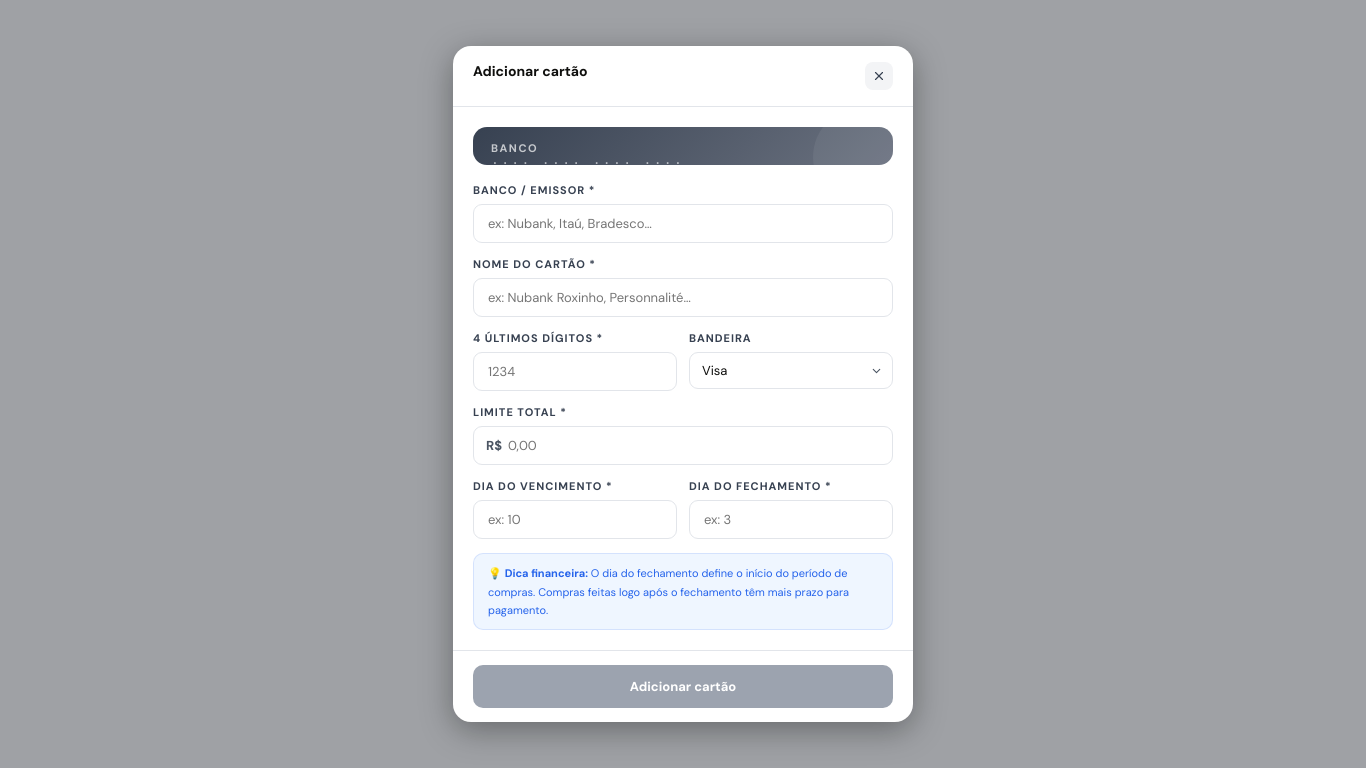
Test case: CardFormSheet — foco nos campos › mantem o foco no campo de 4 digitos ao digitar
The width and height of the screenshot is (1366, 768).
Click the field with placeholder "1234" at (575, 372), box [486,362,664,382]
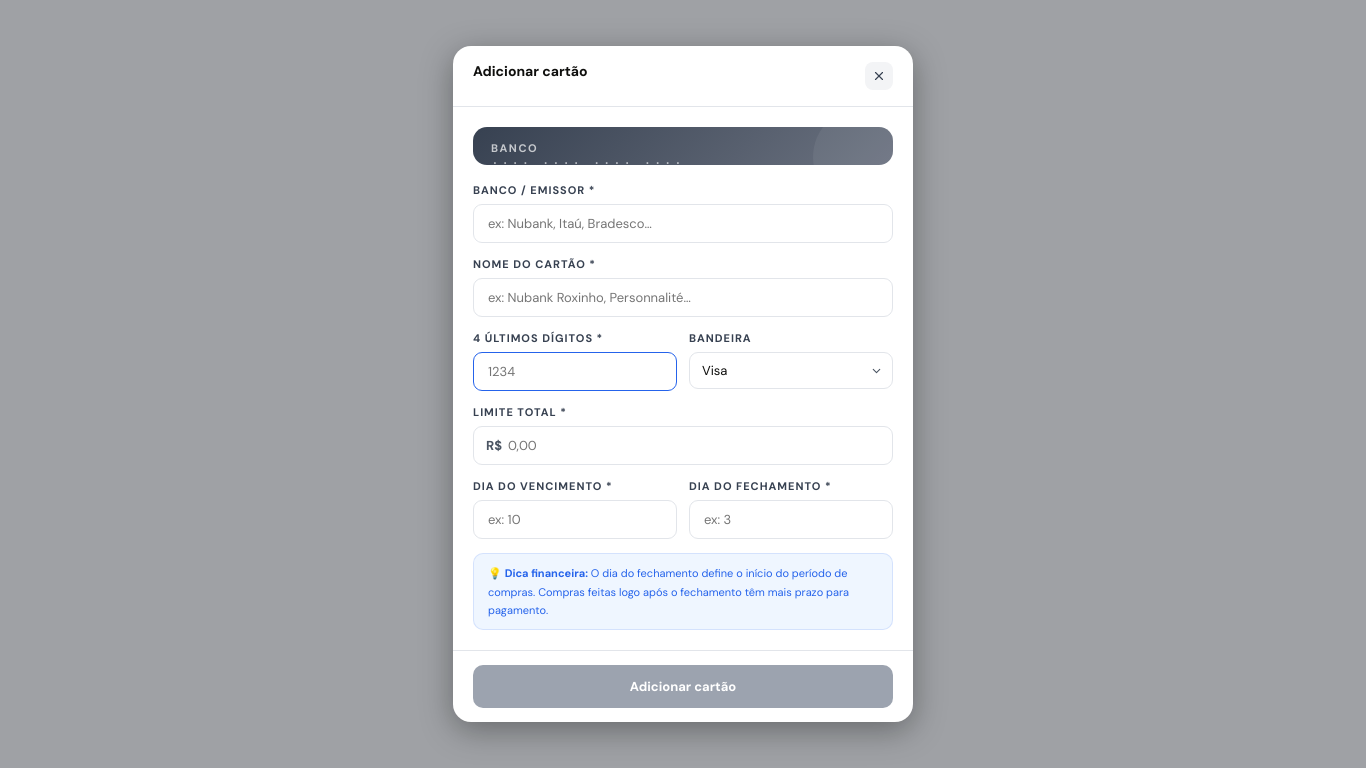
Type keys "4321"
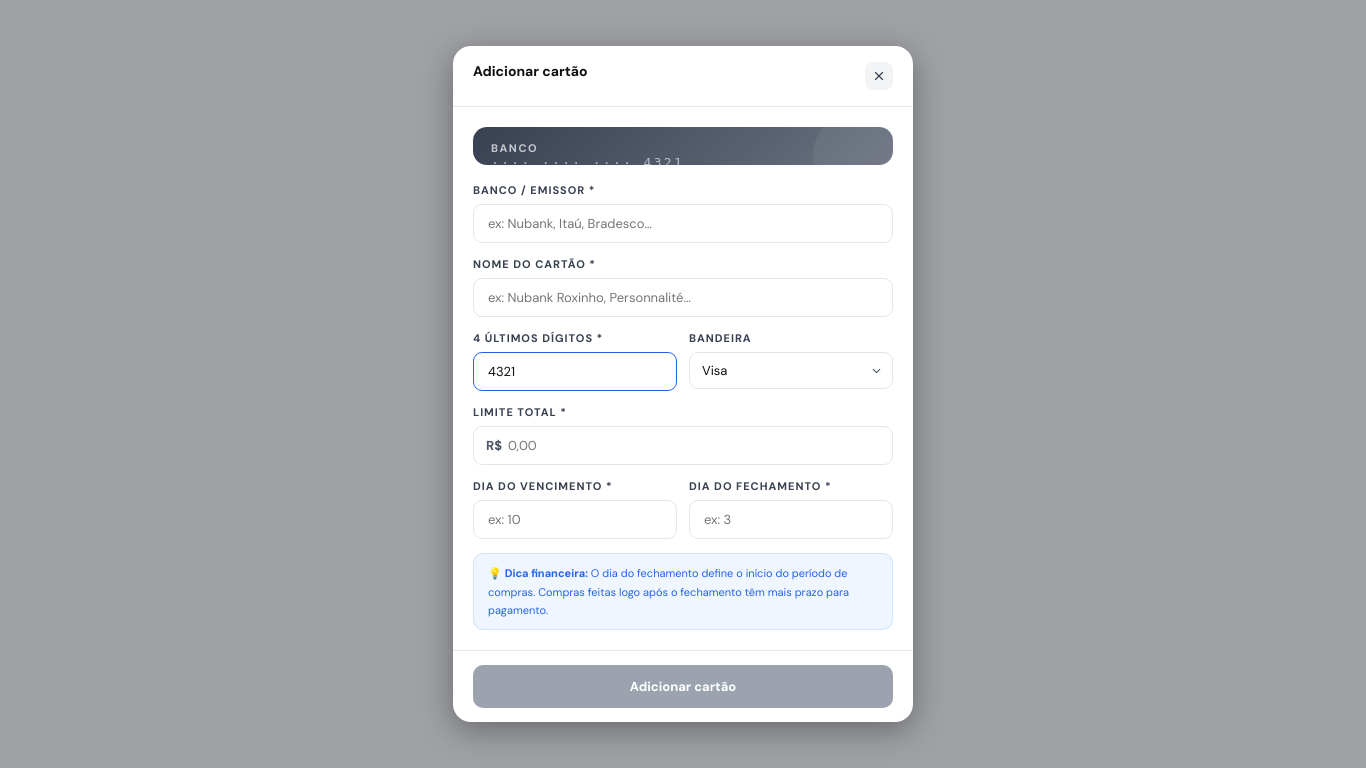
expect the field with placeholder "1234" holds "4321": met, box [486,362,664,382]
